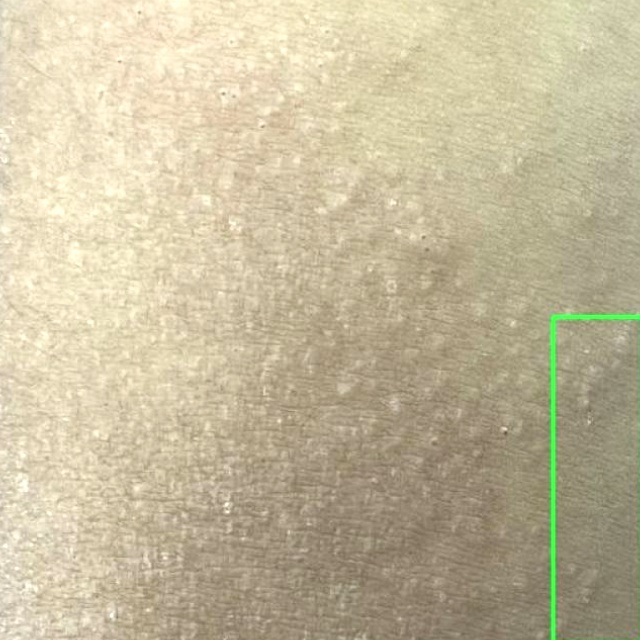Contact Dermatitis: (553, 316, 639, 639)
